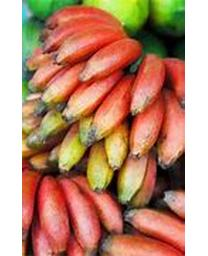banana: (24, 6, 184, 255)
